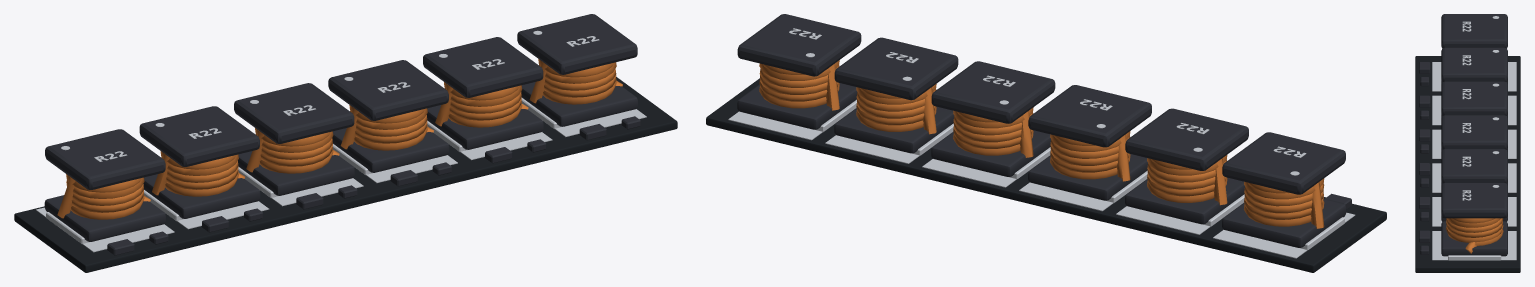
Rendered from ChokeRow.glb.
3 views of the same model, side by side, from view 1: azimuth 30°, elevation 25°; view 2: azimuth 150°, elevation 25°; view 3: azimuth 270°, elevation 25° (orthographic). The views are drawn at different scales.
Parts seen in each view (by area): view 1: Ferrite__Plastic__2E3038, Coil__Metal__C87533, Strip__SmoothPlastic__1B1F24, Pins__Metal__C9CDD4; view 2: Ferrite__Plastic__2E3038, Coil__Metal__C87533, Strip__SmoothPlastic__1B1F24, Pins__Metal__C9CDD4; view 3: Ferrite__Plastic__2E3038, Strip__SmoothPlastic__1B1F24, Pins__Metal__C9CDD4, Coil__Metal__C87533.
Boxes of the visible parts, left/top/right/bottom form: Ferrite__Plastic__2E3038: left=44, top=14, right=640, bottom=255; Coil__Metal__C87533: left=57, top=59, right=622, bottom=219; Strip__SmoothPlastic__1B1F24: left=14, top=76, right=677, bottom=272; Pins__Metal__C9CDD4: left=36, top=30, right=646, bottom=252; Ferrite__Plastic__2E3038: left=737, top=14, right=1351, bottom=247; Coil__Metal__C87533: left=759, top=60, right=1324, bottom=228; Strip__SmoothPlastic__1B1F24: left=706, top=78, right=1386, bottom=272; Pins__Metal__C9CDD4: left=728, top=28, right=1355, bottom=258; Ferrite__Plastic__2E3038: left=1419, top=14, right=1507, bottom=256; Strip__SmoothPlastic__1B1F24: left=1415, top=56, right=1520, bottom=272; Pins__Metal__C9CDD4: left=1432, top=16, right=1516, bottom=260; Coil__Metal__C87533: left=1446, top=218, right=1503, bottom=253.
Size of the model in its own units: 45.2 by 5.63 by 9.5.
